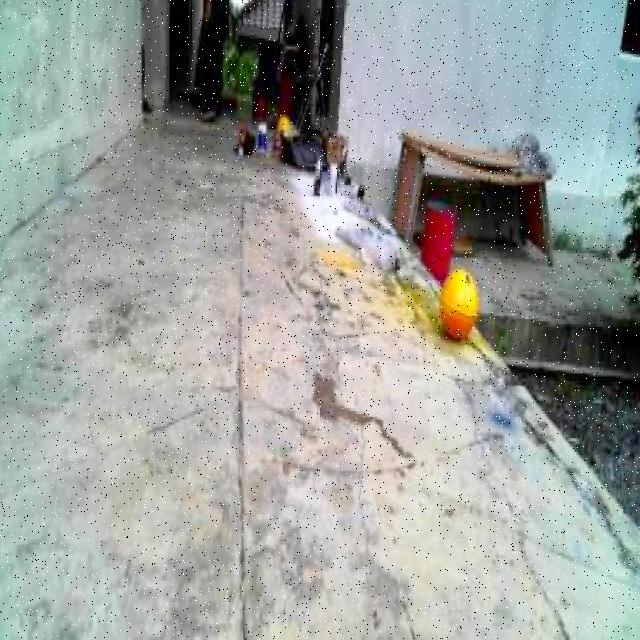buoy: (428, 246, 486, 356), (271, 101, 298, 139)
